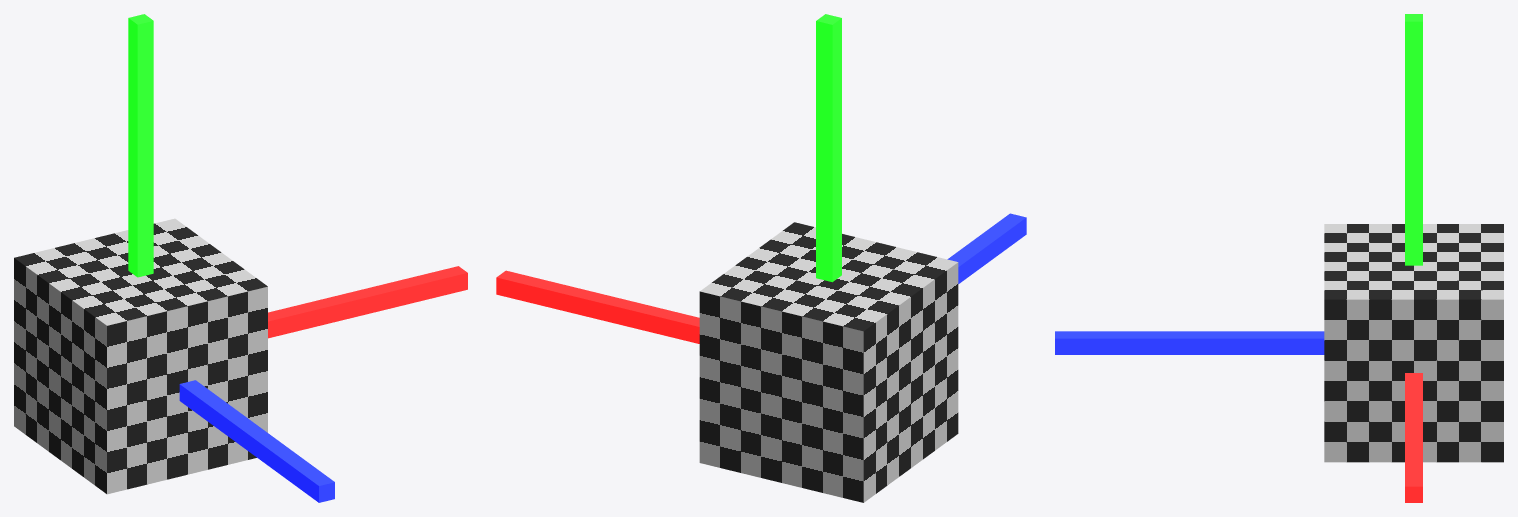
Rendered from axes.glb.
The picture shows the model from 3 angles, left to right: view 1: azimuth 30°, elevation 25°; view 2: azimuth 150°, elevation 25°; view 3: azimuth 270°, elevation 25°; orthographic projection. The views are drawn at different scales.
Visible parts, largest first — view 1: cube, y_axis, x_axis, z_axis; view 2: cube, y_axis, x_axis, z_axis; view 3: cube, z_axis, y_axis, x_axis.
Part boxes in pixels (x1,y1,x2,y2): cube: [14, 218, 267, 494]; y_axis: [128, 14, 153, 277]; x_axis: [268, 266, 467, 338]; z_axis: [179, 380, 334, 502]; cube: [699, 222, 958, 502]; y_axis: [816, 14, 841, 282]; x_axis: [496, 270, 699, 343]; z_axis: [947, 213, 1026, 283]; cube: [1324, 224, 1503, 462]; z_axis: [1055, 331, 1324, 354]; y_axis: [1405, 14, 1422, 265]; x_axis: [1405, 373, 1422, 502].
Bounding box in the file's own units: 1.25 × 1.25 × 1.25.
4 materials, 1 textured.
